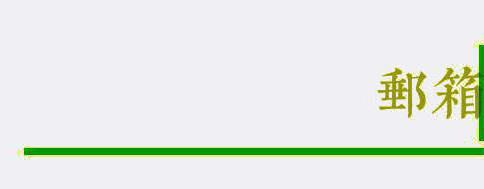EditText: (1, 1, 483, 188)
